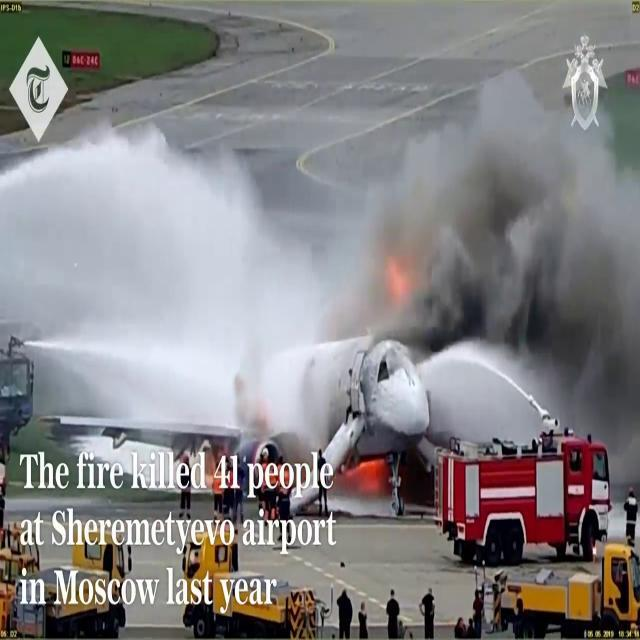Smoke: (47, 95, 640, 429), (359, 53, 640, 398)
